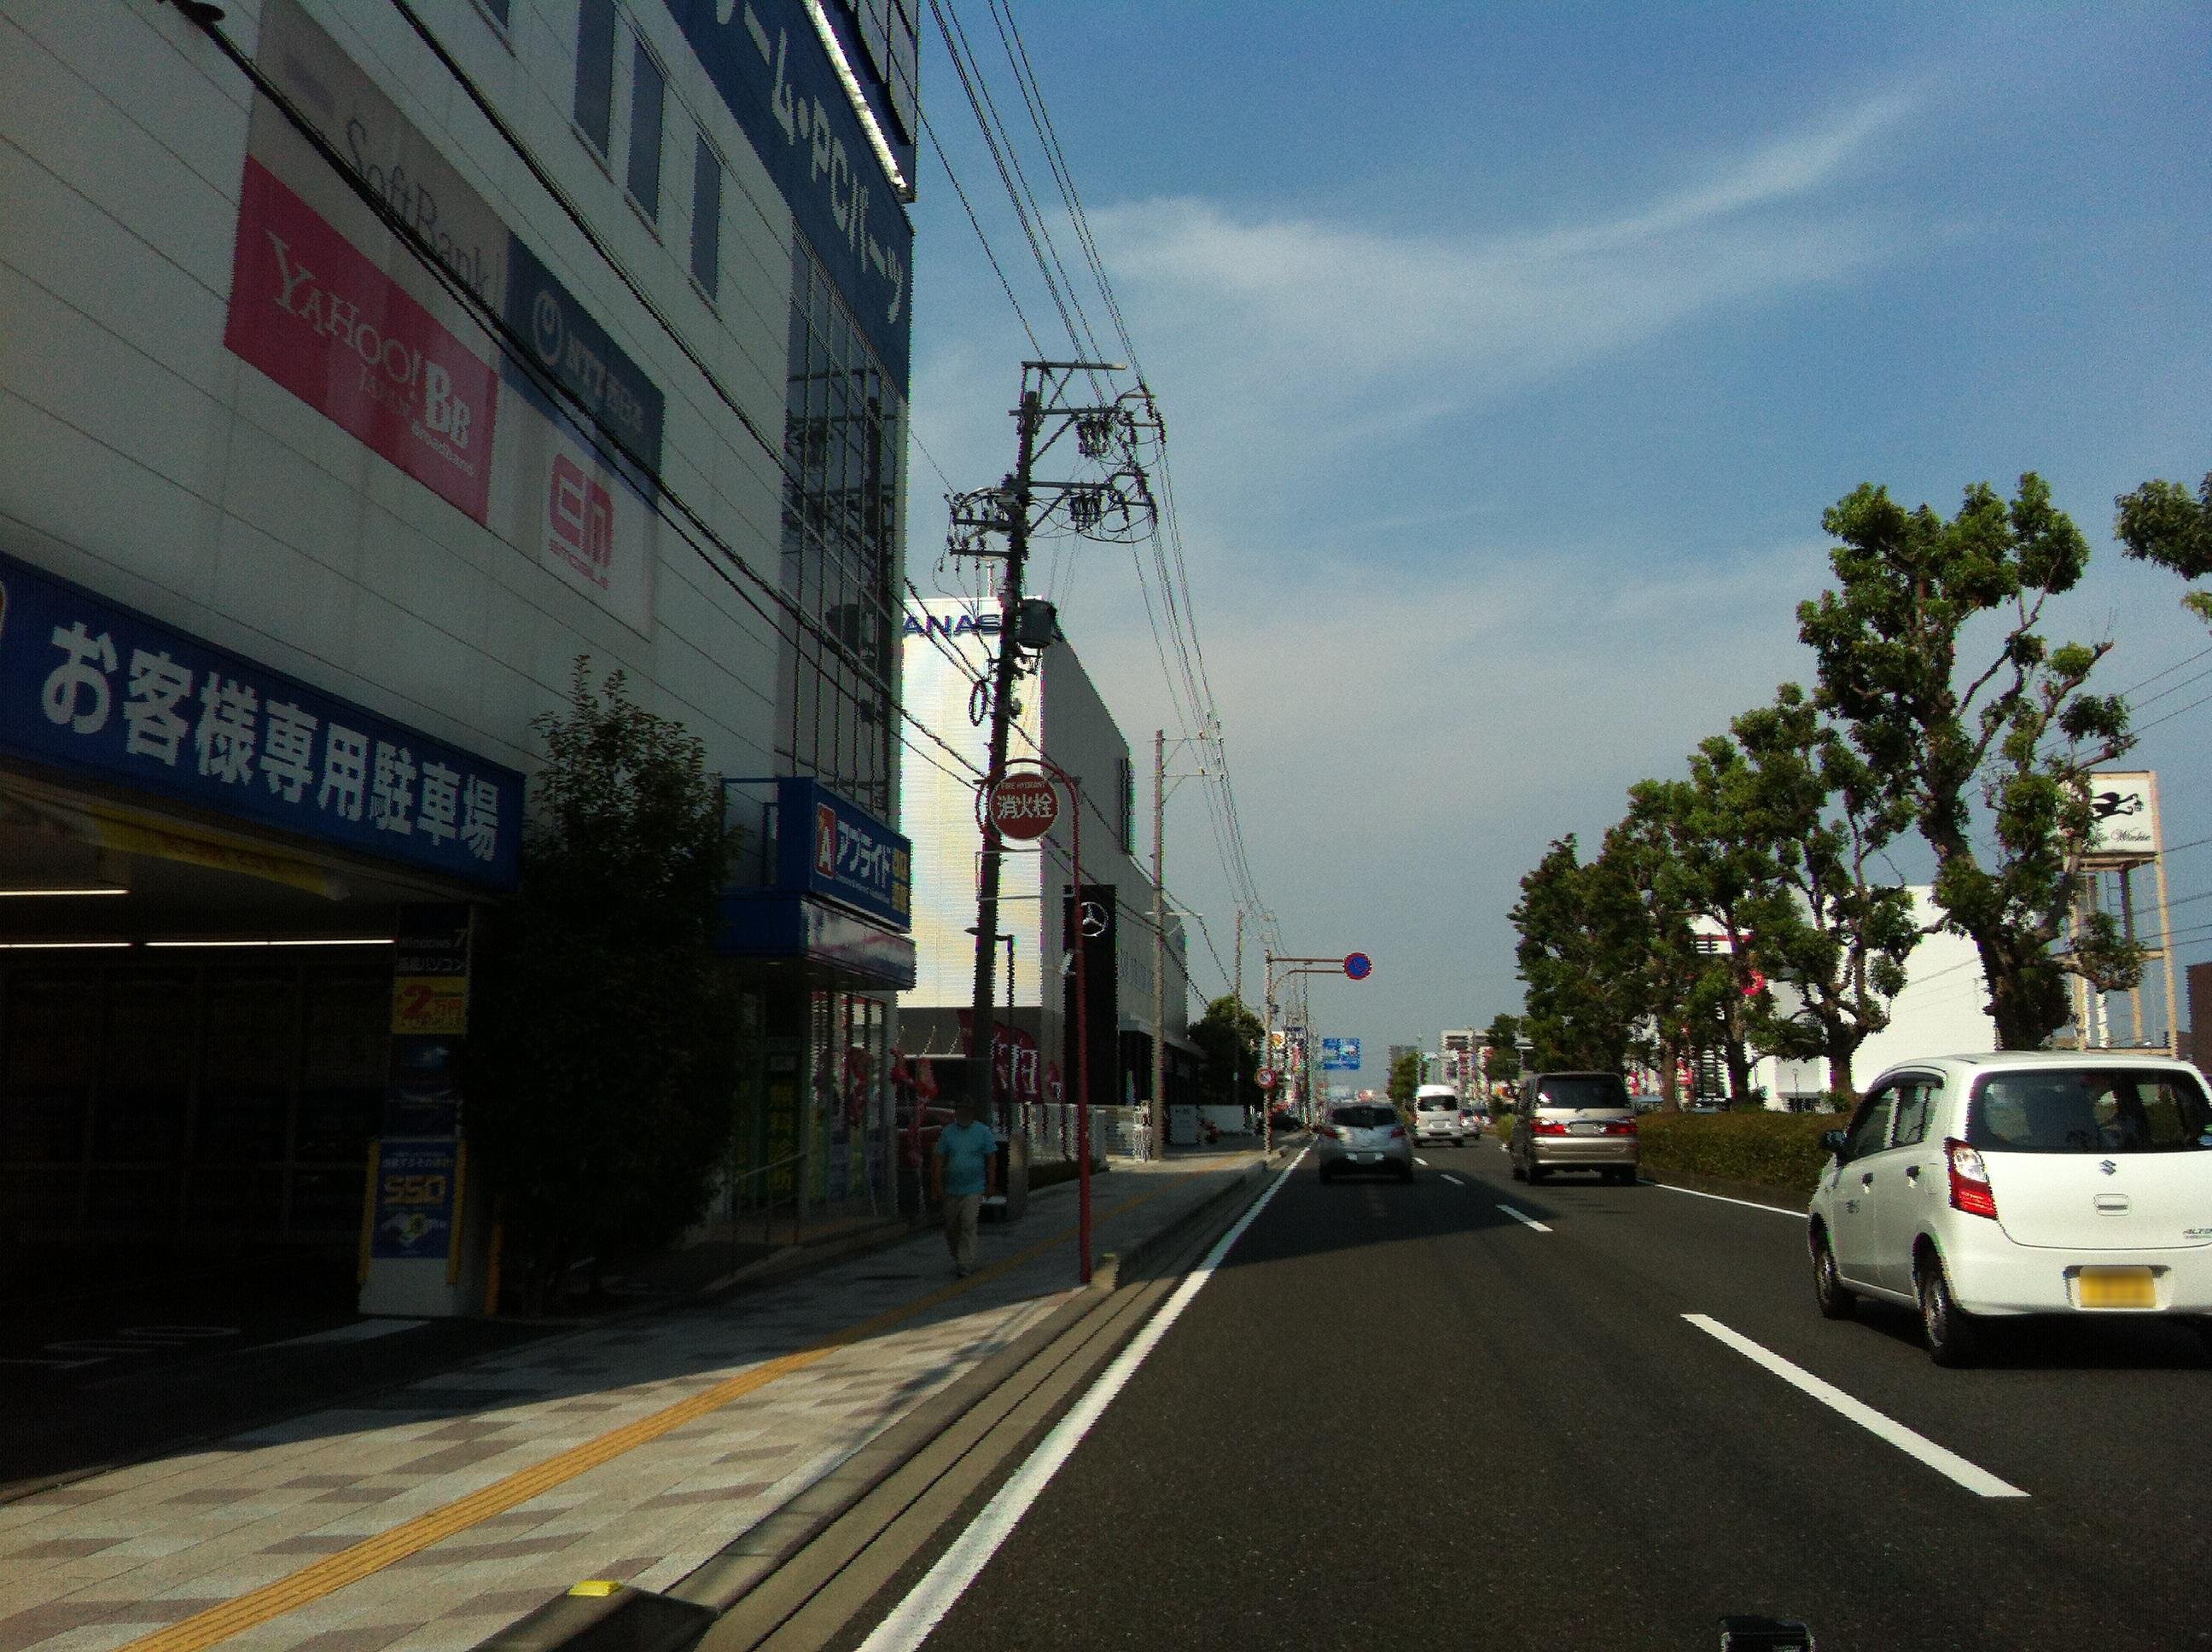vinyl banner: (222, 2, 677, 639)
